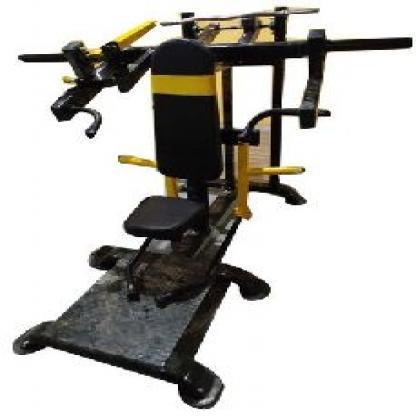shoulder press machine: (16, 5, 409, 406)
